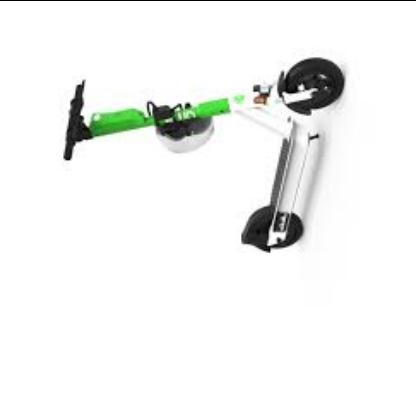bike: (62, 57, 345, 253)
